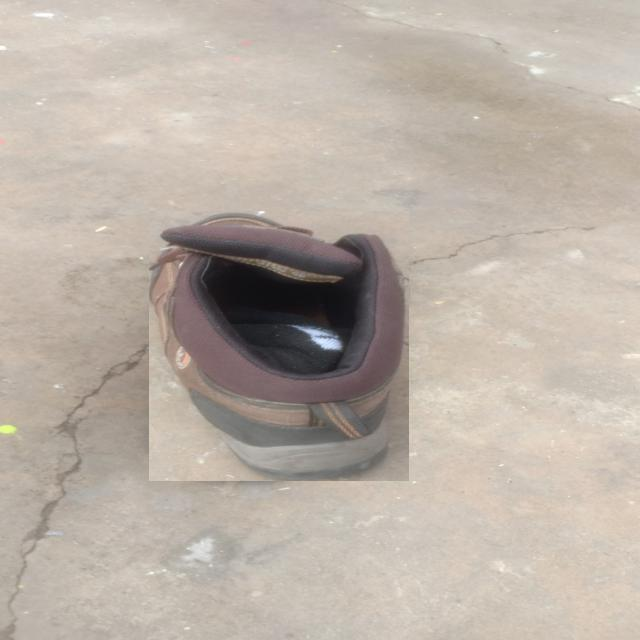shoe: (149, 211, 409, 481)
